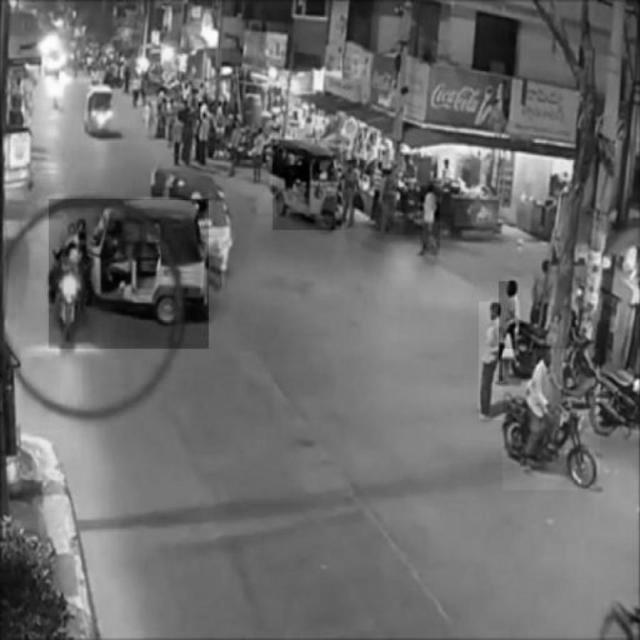accident: (49, 199, 209, 349)
person: (479, 302, 503, 420), (499, 282, 515, 382), (421, 184, 441, 255)
vehicle: (502, 349, 600, 490), (273, 140, 341, 230)
